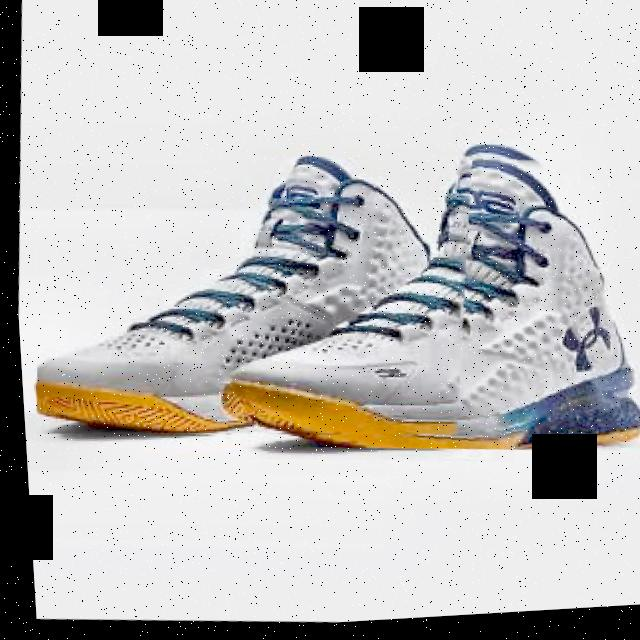shoe: (18, 133, 482, 463), (214, 123, 640, 477)
